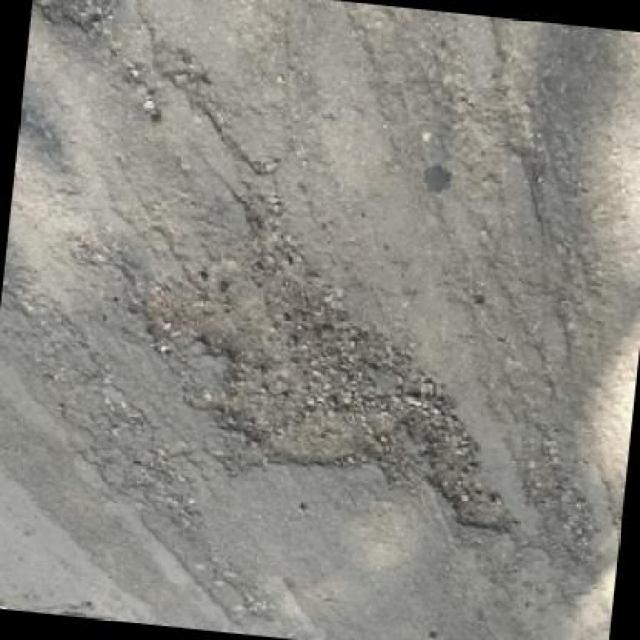pothole1: (109, 200, 462, 505), (415, 381, 531, 537)
